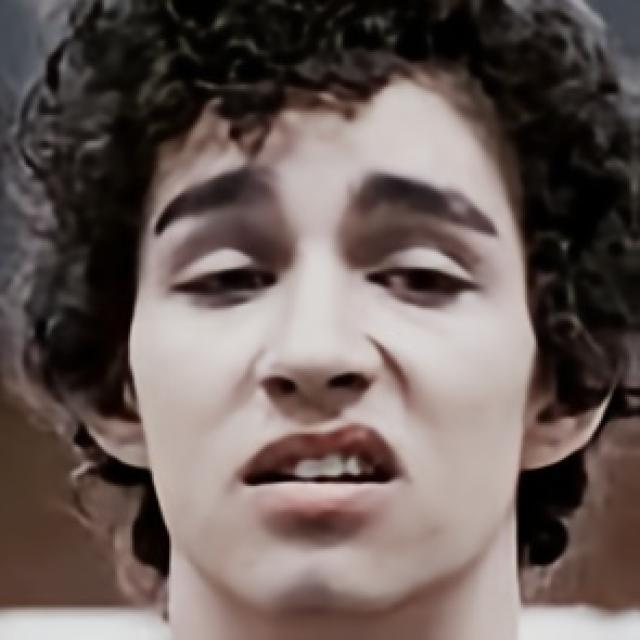disgust: (128, 50, 536, 625)
